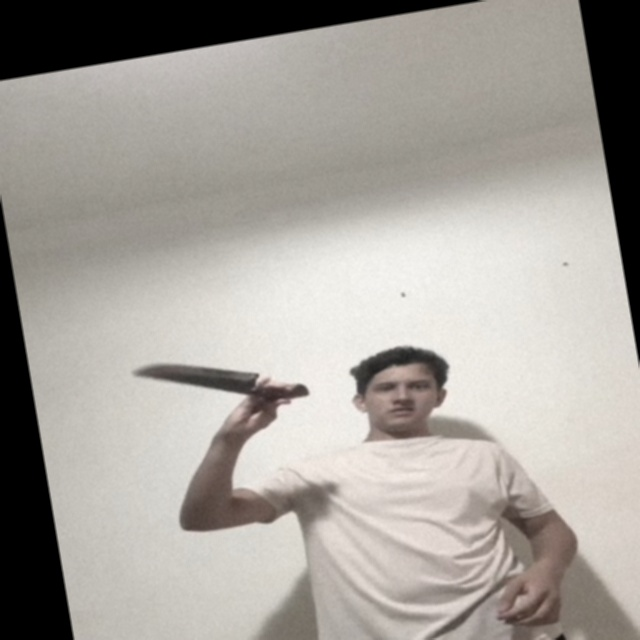Sharp-Object: (134, 348, 256, 404)
